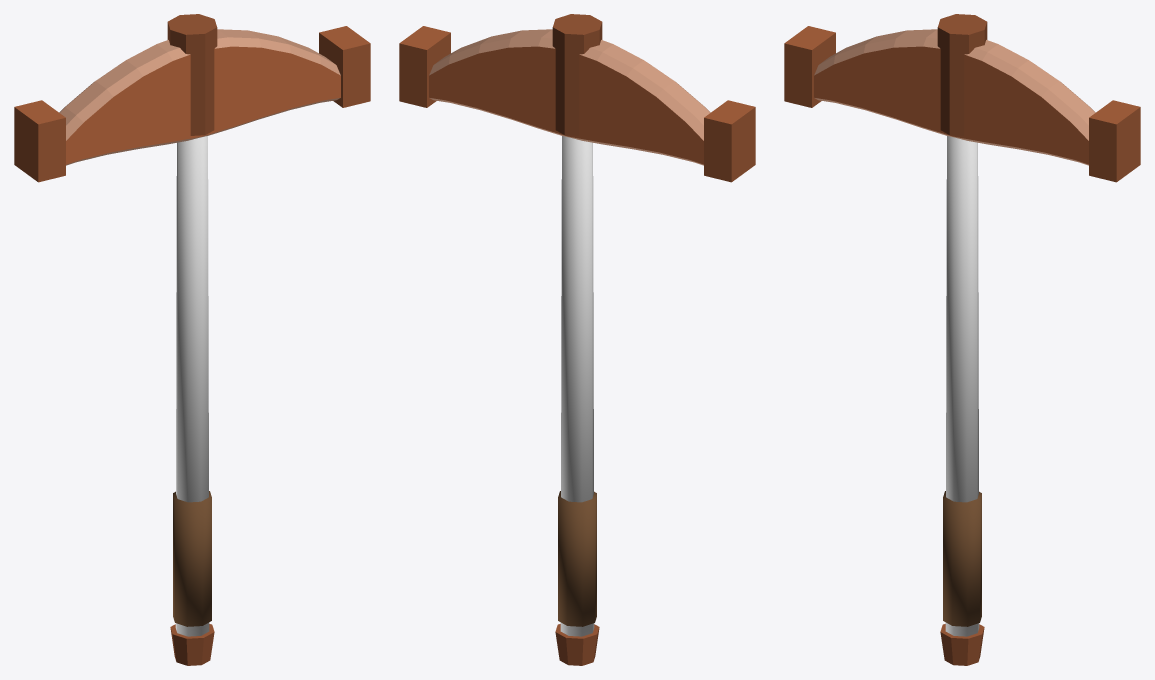
Rendered from copper_pickaxe.glb.
3 views of the same model, side by side, from view 1: azimuth 30°, elevation 25°; view 2: azimuth 150°, elevation 25°; view 3: azimuth 330°, elevation 25° (orthographic).
Parts seen in each view (by area): view 1: copper_pickaxe_v0; view 2: copper_pickaxe_v0; view 3: copper_pickaxe_v0.
Boxes of the visible parts, box(x1,y1,x2,y2) form: copper_pickaxe_v0: box(14, 14, 370, 665); copper_pickaxe_v0: box(399, 14, 755, 665); copper_pickaxe_v0: box(784, 14, 1140, 665).
Size of the model in its own units: 0.48 by 0.875 by 0.064.
